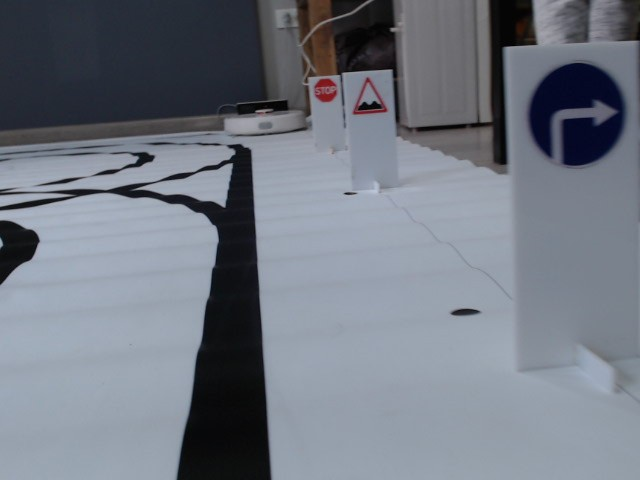Nerov: (352, 75, 389, 115)
Right: (522, 60, 628, 172)
Stop: (313, 78, 338, 103)
